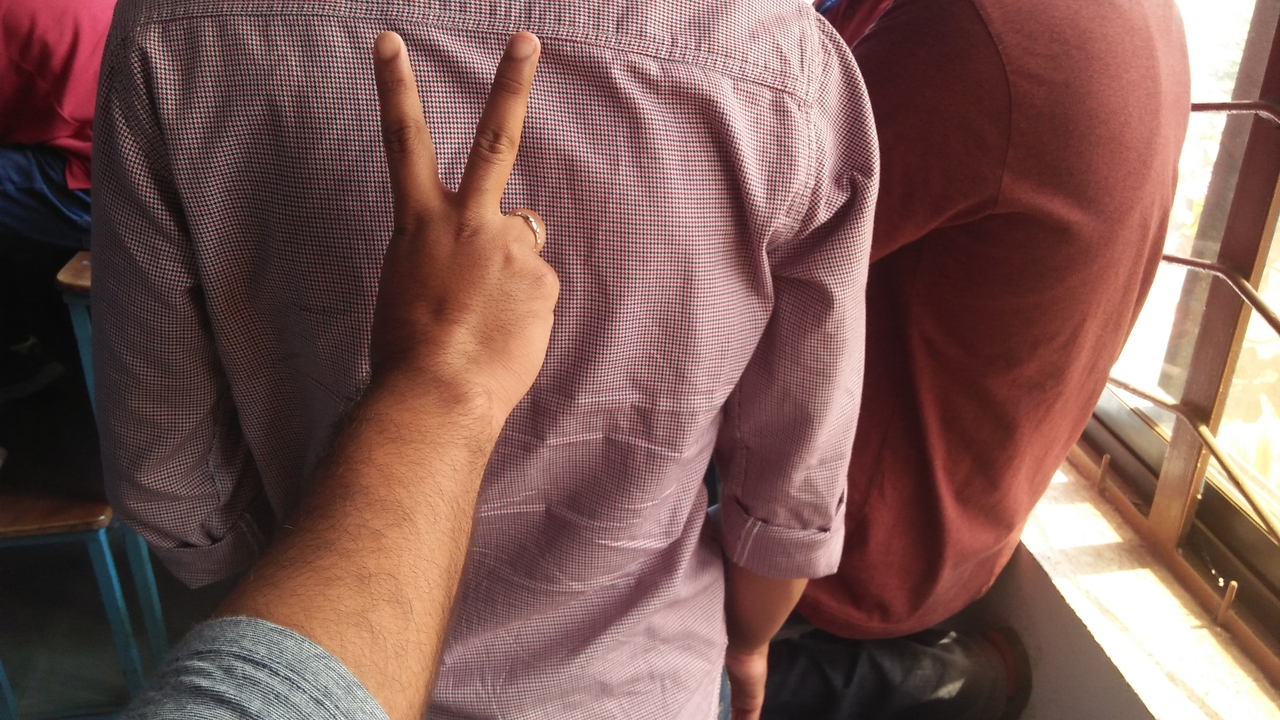fingertip: (364, 22, 412, 66), (498, 22, 542, 64)
